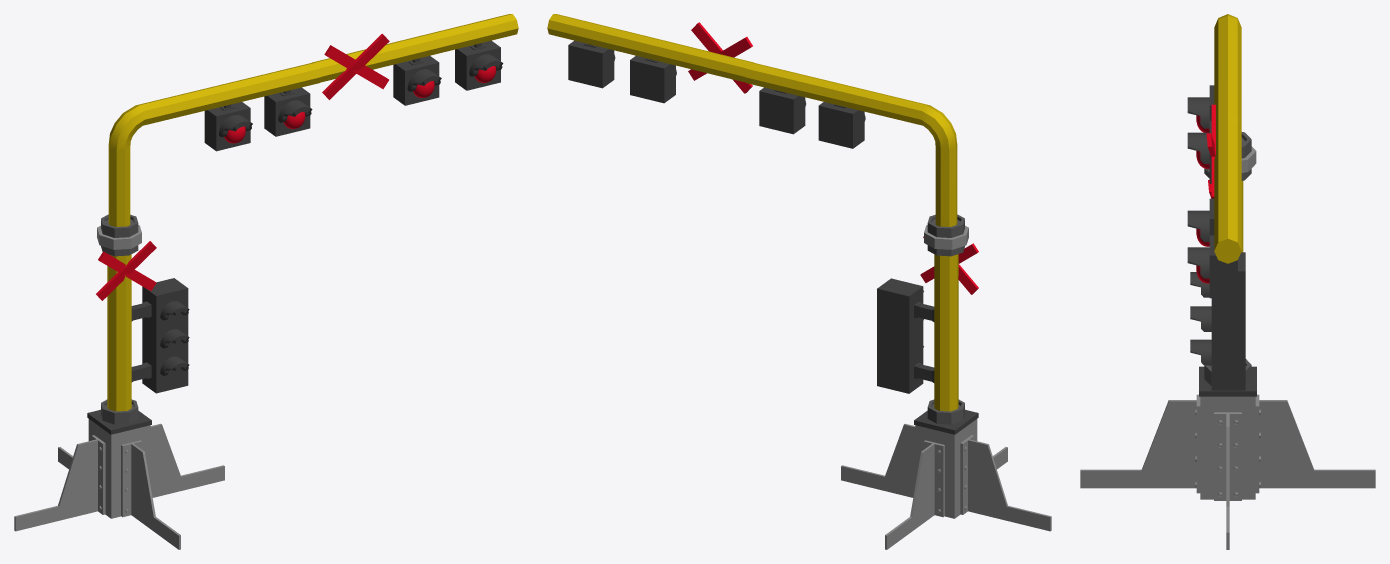
Rendered from traffic_light.fbx.
3 views of the same model, side by side, from view 1: azimuth 30°, elevation 25°; view 2: azimuth 150°, elevation 25°; view 3: azimuth 270°, elevation 25° (orthographic). The views are drawn at different scales.
Visible parts, largest first — view 1: up_pipe, pCube9, under3, middle_pipe, under4, under1, under_cube, traffic_light_cv3, traffic_light_cv4, traffic_light_cv1, traffic_light_cv2, stop5 (+4 smaller); view 2: up_pipe, pCube9, middle_pipe, under3, under2, under1, under_cube, traffic_light_cv4, traffic_light_cv1, traffic_light_cv3, traffic_light_cv2, stop5 (+4 smaller); view 3: up_pipe, under2, under4, pCube9, under_cube, under1, traffic_light_cv4, under_b, traffic_light_cv3, traffic_light_cv1, traffic_light_cv2, stop5 (+2 smaller).
Boxes of the visible parts, <box> form: up_pipe: <box>108,14,518,226</box>; pCube9: <box>131,278,188,393</box>; under3: <box>14,435,105,531</box>; middle_pipe: <box>107,254,131,411</box>; under4: <box>121,440,180,549</box>; under1: <box>150,423,224,497</box>; under_cube: <box>88,419,150,518</box>; traffic_light_cv3: <box>393,56,441,105</box>; traffic_light_cv4: <box>455,40,503,90</box>; traffic_light_cv1: <box>204,102,252,151</box>; traffic_light_cv2: <box>264,87,312,136</box>; stop5: <box>322,33,389,99</box>; up_pipe: <box>547,14,957,226</box>; pCube9: <box>877,278,934,393</box>; middle_pipe: <box>934,254,958,411</box>; under3: <box>960,435,1051,531</box>; under2: <box>885,440,944,549</box>; under1: <box>841,423,915,497</box>; under_cube: <box>915,419,977,518</box>; traffic_light_cv4: <box>568,40,615,88</box>; traffic_light_cv1: <box>818,102,865,148</box>; traffic_light_cv3: <box>630,56,676,103</box>; traffic_light_cv2: <box>759,87,806,134</box>; stop5: <box>688,22,752,93</box>; up_pipe: <box>1214,14,1241,263</box>; under2: <box>1255,394,1375,493</box>; under4: <box>1080,394,1200,493</box>; pCube9: <box>1211,252,1245,390</box>; under_cube: <box>1200,396,1255,499</box>; under1: <box>1214,412,1241,549</box>; traffic_light_cv4: <box>1187,235,1237,298</box>; under_b: <box>1199,366,1256,396</box>; traffic_light_cv3: <box>1187,198,1214,241</box>; traffic_light_cv1: <box>1187,85,1214,128</box>; traffic_light_cv2: <box>1187,120,1211,183</box>; stop5: <box>1206,104,1215,198</box>.
Bounding box in the file's own units: 25.36 × 20.18 × 10.65.
